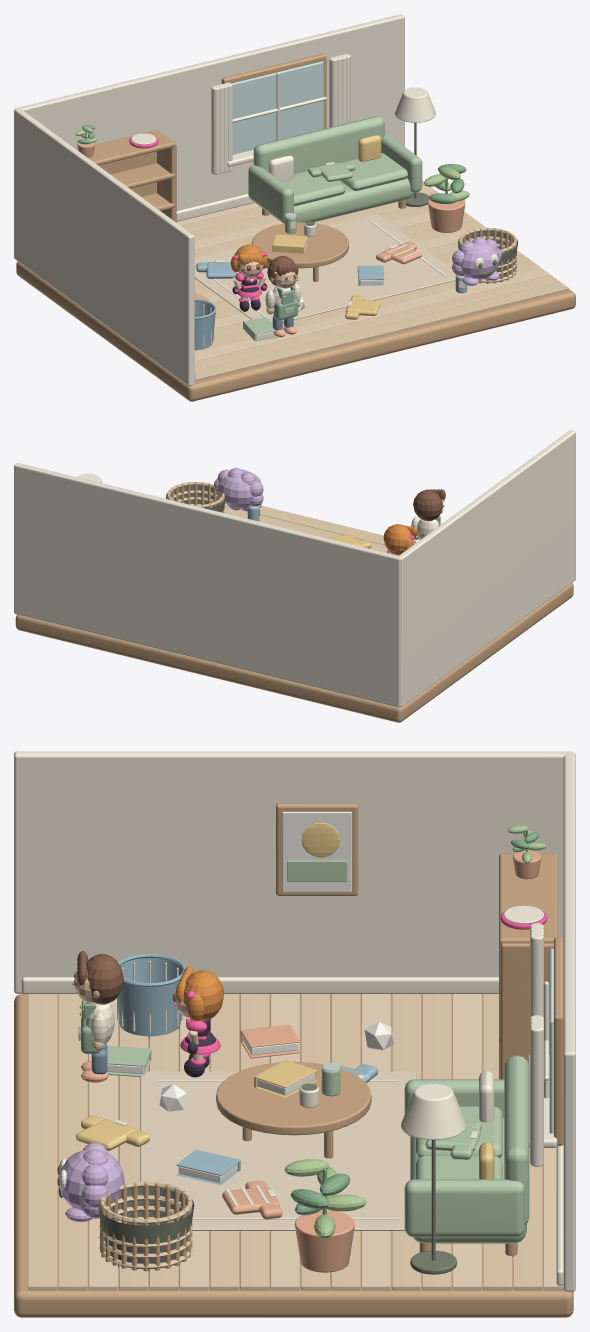
The model's file is room.glb.
3 views of the same model, one above another, from view 1: azimuth 30°, elevation 25°; view 2: azimuth 150°, elevation 25°; view 3: azimuth 270°, elevation 25° (orthographic). The views are drawn at different scales.
Parts seen in each view (by area): view 1: Left wall, Back wall, Room foundation, Woven rug, Window view, Floor plank 17, Sofa back, Floor plank 16, Floor plank 15, Sofa base, Coffee table top, Floor plank 14 (+24 smaller); view 2: Back wall, Left wall, Room foundation, Floor plank 17, Dust body, Floor plank 16, Chestnut bob, Orange bob haircut, Basket inside; view 3: Left wall, Woven rug, Room foundation, Floor plank 17, Back wall, Coffee table top, Sofa arm.001, Floor plank 16, Left skirting, Floor plank 3, Wastebasket body, Shelf side.001 (+45 smaller).
Part boxes in pixels (<box>): Left wall: <box>14,109,194,386</box>; Back wall: <box>15,14,404,210</box>; Room foundation: <box>16,261,575,401</box>; Woven rug: <box>194,214,455,322</box>; Window view: <box>232,61,323,154</box>; Floor plank 17: <box>194,281,568,381</box>; Sofa back: <box>253,116,384,173</box>; Floor plank 16: <box>194,274,559,370</box>; Floor plank 15: <box>194,267,549,360</box>; Sofa base: <box>257,178,413,223</box>; Coffee table top: <box>251,222,348,268</box>; Floor plank 14: <box>194,260,540,351</box>; Back wall: <box>14,463,400,707</box>; Left wall: <box>399,430,575,707</box>; Room foundation: <box>15,507,573,722</box>; Floor plank 17: <box>224,503,414,545</box>; Dust body: <box>218,469,260,508</box>; Floor plank 16: <box>224,506,387,552</box>; Chestnut bob: <box>413,490,442,521</box>; Orange bob haircut: <box>384,524,413,555</box>; Basket inside: <box>165,485,225,512</box>; Left wall: <box>14,751,572,993</box>; Woven rug: <box>140,1071,416,1230</box>; Room foundation: <box>14,994,573,1317</box>; Floor plank 17: <box>28,994,57,1290</box>; Back wall: <box>563,752,575,1291</box>; Coffee table top: <box>216,1061,371,1135</box>; Sofa arm.001: <box>404,1179,524,1237</box>; Floor plank 16: <box>58,994,87,1290</box>; Left skirting: <box>21,977,498,994</box>; Floor plank 3: <box>452,994,481,1290</box>; Wastebasket body: <box>117,957,182,1038</box>; Shelf side.001: <box>500,943,553,1079</box>.
Bounding box in the file's own units: 9.23 × 3.79 × 7.23.
